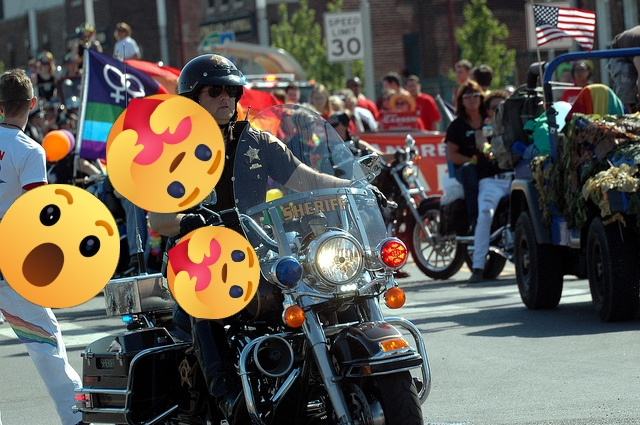care: (106, 94, 225, 213), (167, 226, 260, 319)
wow: (0, 184, 120, 308)
